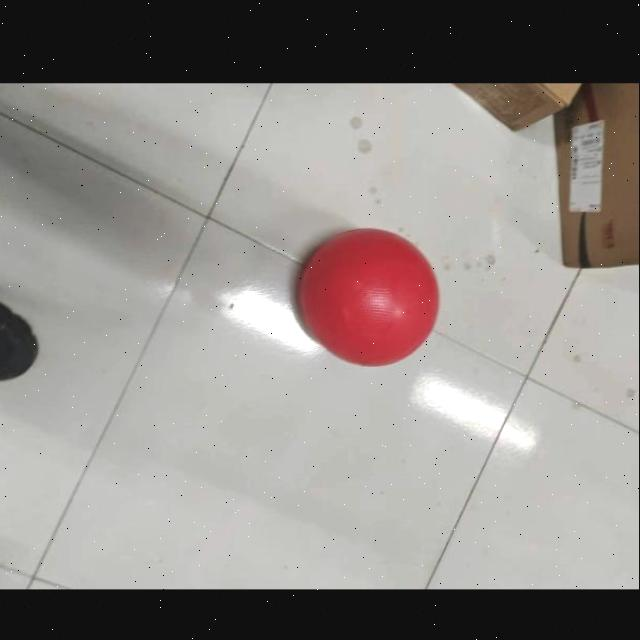R: (296, 226, 442, 368)
